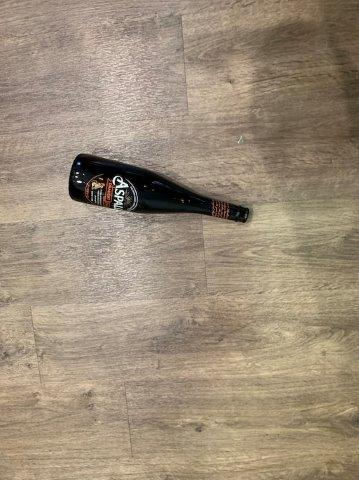botolkaca: (69, 152, 249, 224)
